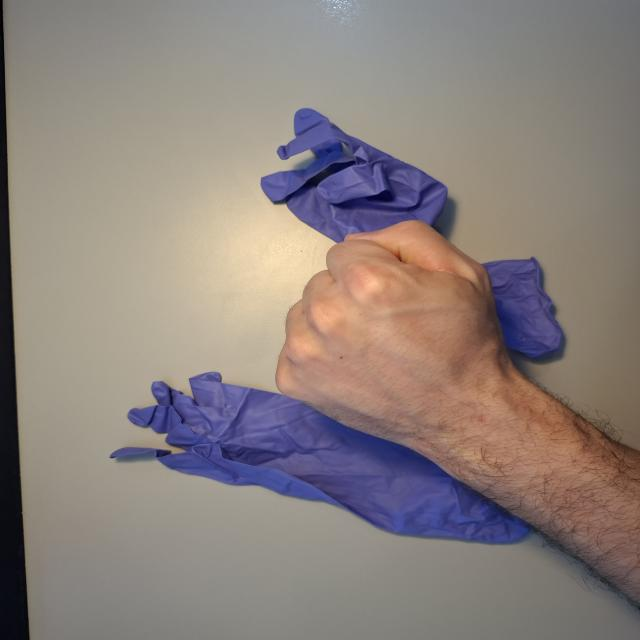glove_off: (272, 218, 531, 452)
